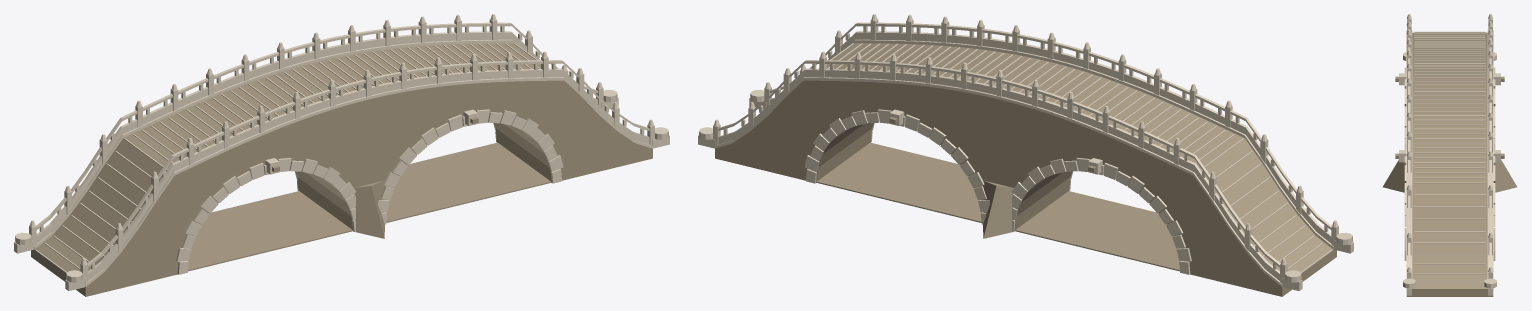
3 renders of one model, left to right at view 1: azimuth 30°, elevation 25°; view 2: azimuth 150°, elevation 25°; view 3: azimuth 270°, elevation 25°, orthographic. The views are drawn at different scales.
Visible parts, largest first — view 1: K11b; view 2: K11b; view 3: K11b.
Part boxes in pixels (bbox=[...]): K11b: bbox=[14, 14, 669, 296]; K11b: bbox=[698, 14, 1353, 296]; K11b: bbox=[1382, 14, 1517, 296].
Bounding box in the file's own units: 31.8 × 7.88 × 7.8.
